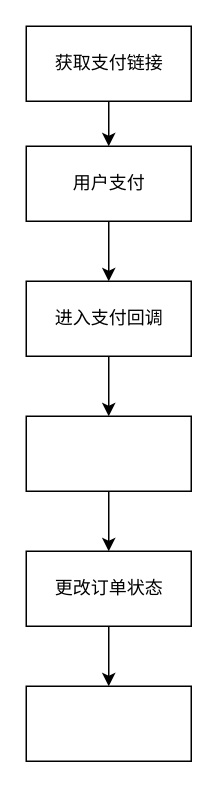
The diagram is 218 pixels wide and 788 high, and some of its shapes have lost their labels. The shapes that lost their labels are listed below. From the top down, each one's box as (x1, y1, x2, y2) in pixels, then its label:
(25, 415, 191, 491): 验签
(25, 685, 191, 761): 用户定义的回调业务
